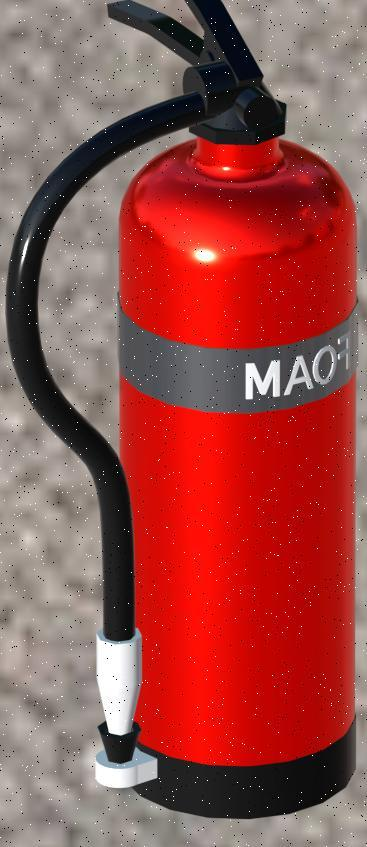Fire Extinguisher: (10, 10, 367, 820)
